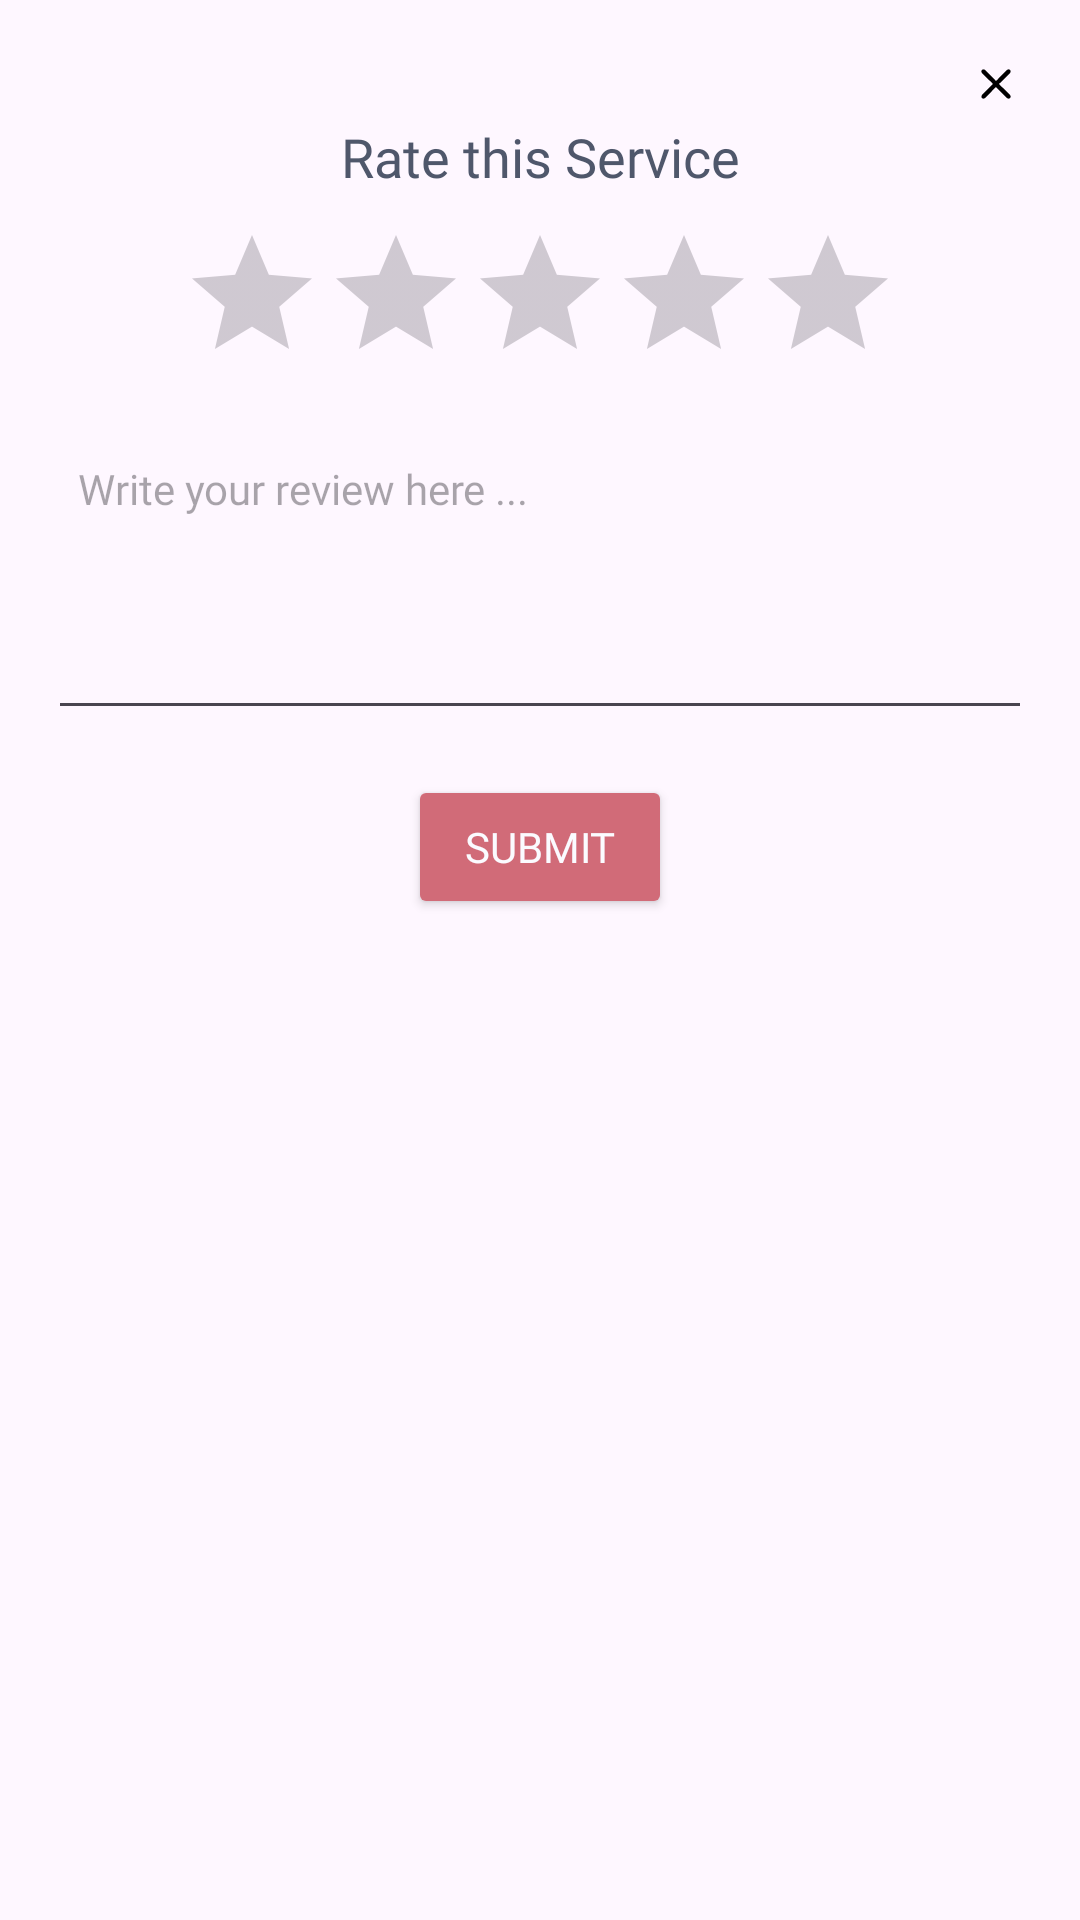

Icons on this 1080px x 1920px Android screen, each with its box as (x1,y1,x2,y2):
Close: (981,69,1011,99)
